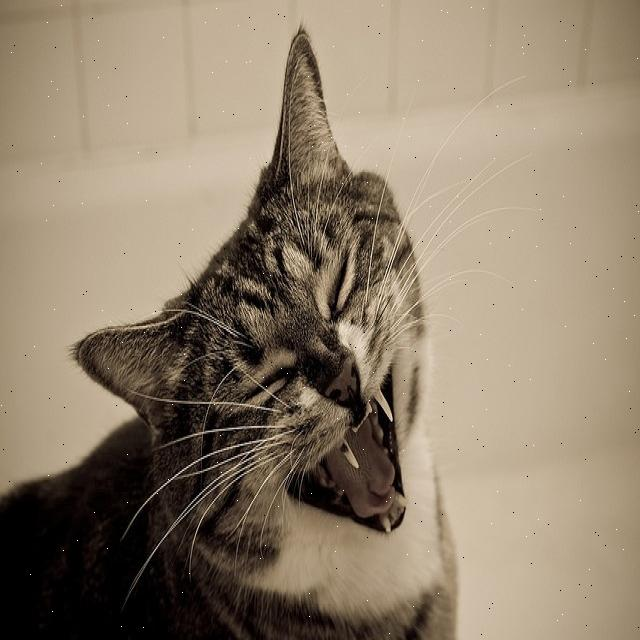cat: (0, 27, 455, 639)
